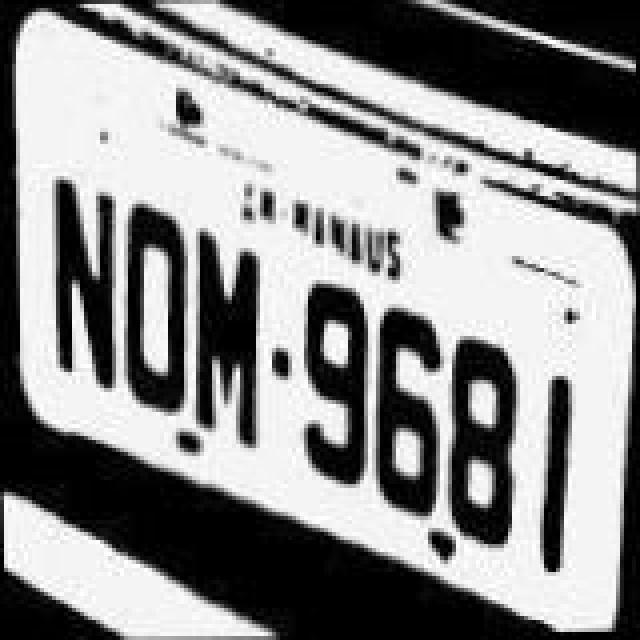1: (532, 330, 600, 590)
6: (368, 284, 452, 524)
8: (438, 286, 526, 562)
9: (294, 272, 382, 516)
M: (184, 218, 264, 454)
N: (46, 160, 130, 408)
O: (112, 196, 192, 432)
